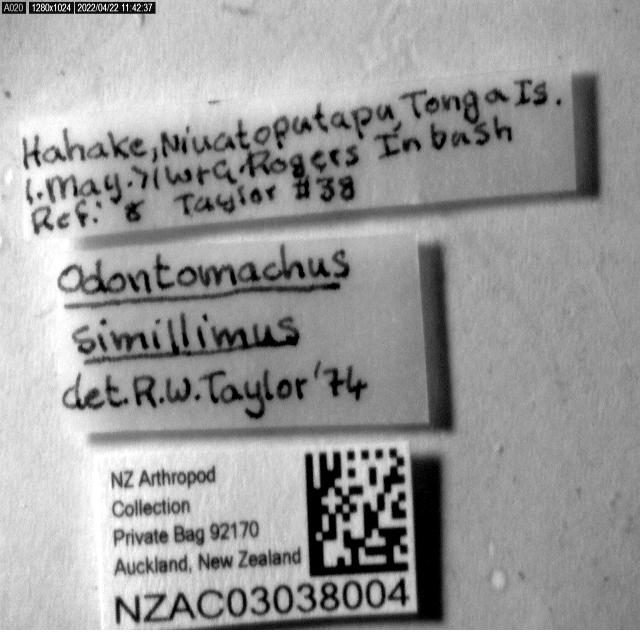hand_label: (22, 67, 576, 238), (58, 234, 429, 433)
typed_label: (95, 442, 418, 628)
